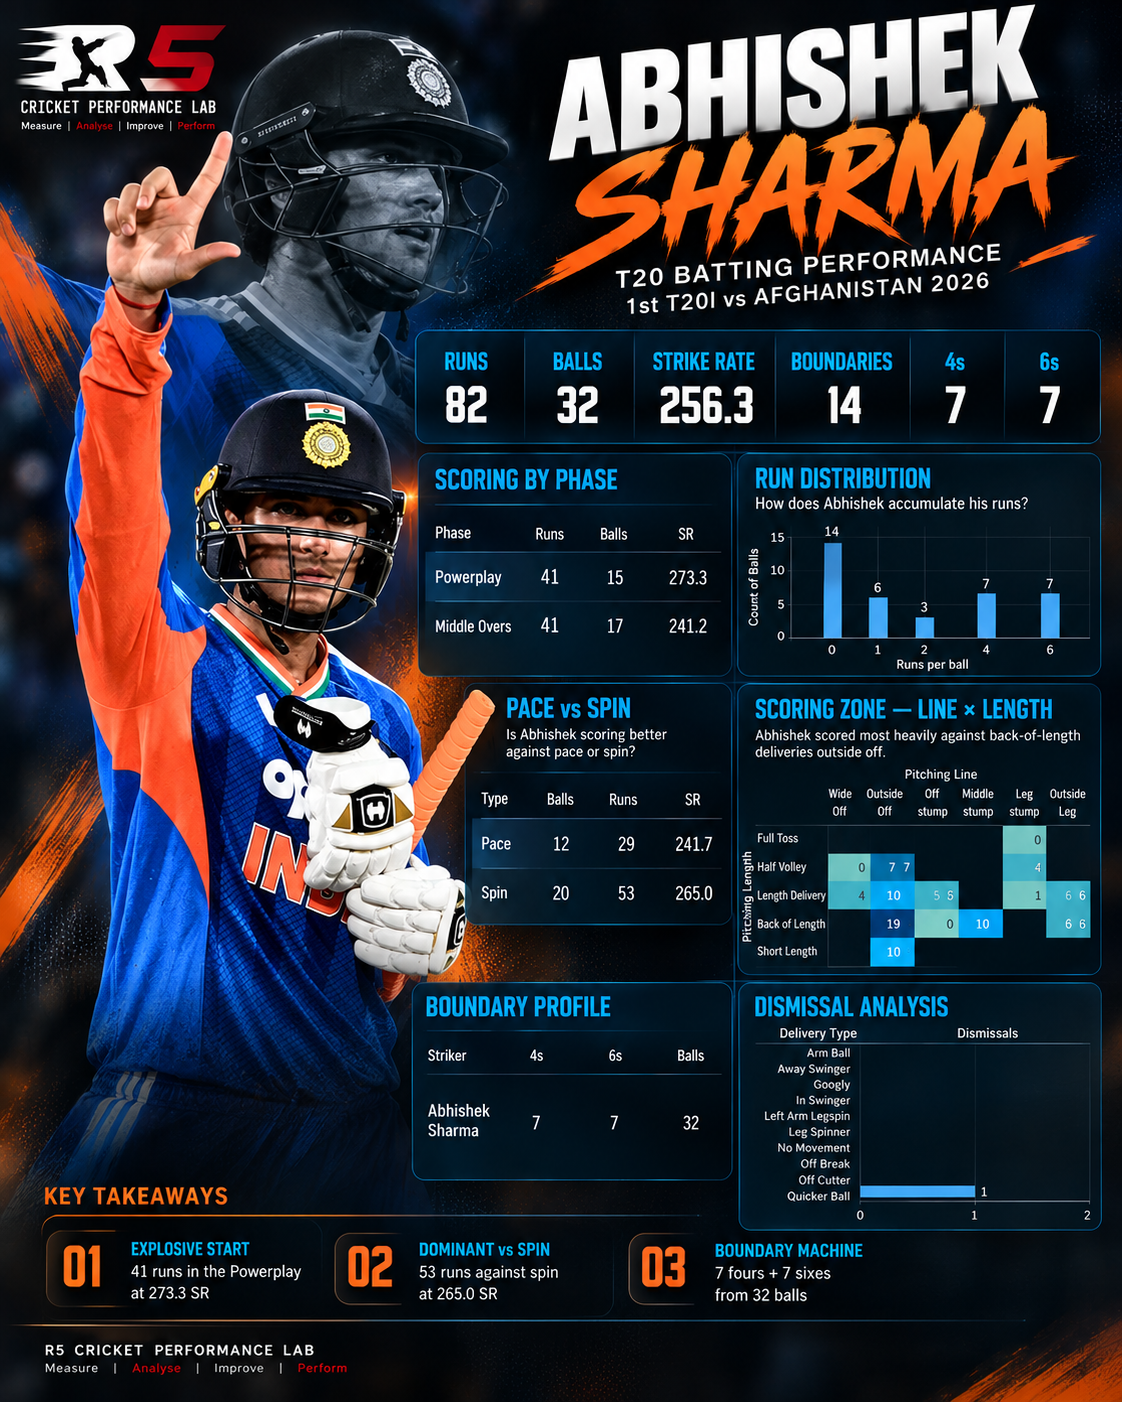

The page's visual inventory and layout, read from the dashboard file:
{"tool":"tableau","page":{"name":"Dashboard 1","canvas":[1000,1200],"ordinal":0},"visuals":[{"type":"text","box":[8,8,984,74]},{"type":"worksheet","title":"KPI Runs","mark":"Automatic","box":[8,82,143,73]},{"type":"worksheet","title":"KPI Balls","mark":"Automatic","box":[151,82,125,91]},{"type":"worksheet","title":"KPI SR","mark":"Automatic","box":[276,82,174,91]},{"type":"worksheet","title":"KPI Boundaries","mark":"Automatic","box":[450,82,173,91]},{"type":"worksheet","title":"KPI 4s","mark":"Automatic","box":[623,82,168,91]},{"type":"worksheet","title":"KPI 6s","mark":"Automatic","box":[791,82,201,91]},{"type":"worksheet","title":"Scoring by Phase","mark":"Automatic","rows":["Calculation_0176791508156427"],"box":[8,173,520,291]},{"type":"worksheet","title":"Run Distribution","mark":"Bar","rows":["BallNum"],"cols":["Batter Runs"],"box":[528,173,464,291]},{"type":"worksheet","title":"Pace vs Spin","mark":"Automatic","rows":["Calculation_0176791507238921"],"box":[8,464,492,403]},{"type":"worksheet","title":"Line Length Map","mark":"Square","rows":["Pitching Length"],"cols":["Pitching Line"],"box":[500,464,492,403]},{"type":"worksheet","title":"Boundary Profile","mark":"Automatic","rows":["Striker"],"box":[8,867,492,174]},{"type":"worksheet","title":"dismissal type","mark":"Automatic","rows":["Delivery Type"],"cols":["Calculation_0176791500591111"],"box":[500,867,492,325]}]}

Visuals, with their boxes on the page's 1000x1200 design canvas (x1, y1, x2, y2). These are canvas units, not pixel positions in the 1122x1402 screenshot, which may show the page scaled, cropped or inside an application window:
text: <bbox>8, 8, 992, 82</bbox>
"KPI Runs" worksheet: <bbox>8, 82, 151, 155</bbox>
"KPI Balls" worksheet: <bbox>151, 82, 276, 173</bbox>
"KPI SR" worksheet: <bbox>276, 82, 450, 173</bbox>
"KPI Boundaries" worksheet: <bbox>450, 82, 623, 173</bbox>
"KPI 4s" worksheet: <bbox>623, 82, 791, 173</bbox>
"KPI 6s" worksheet: <bbox>791, 82, 992, 173</bbox>
"Scoring by Phase" worksheet: <bbox>8, 173, 528, 464</bbox>
"Run Distribution" worksheet (Bar marks): <bbox>528, 173, 992, 464</bbox>
"Pace vs Spin" worksheet: <bbox>8, 464, 500, 867</bbox>
"Line Length Map" worksheet (Square marks): <bbox>500, 464, 992, 867</bbox>
"Boundary Profile" worksheet: <bbox>8, 867, 500, 1041</bbox>
"dismissal type" worksheet: <bbox>500, 867, 992, 1192</bbox>
